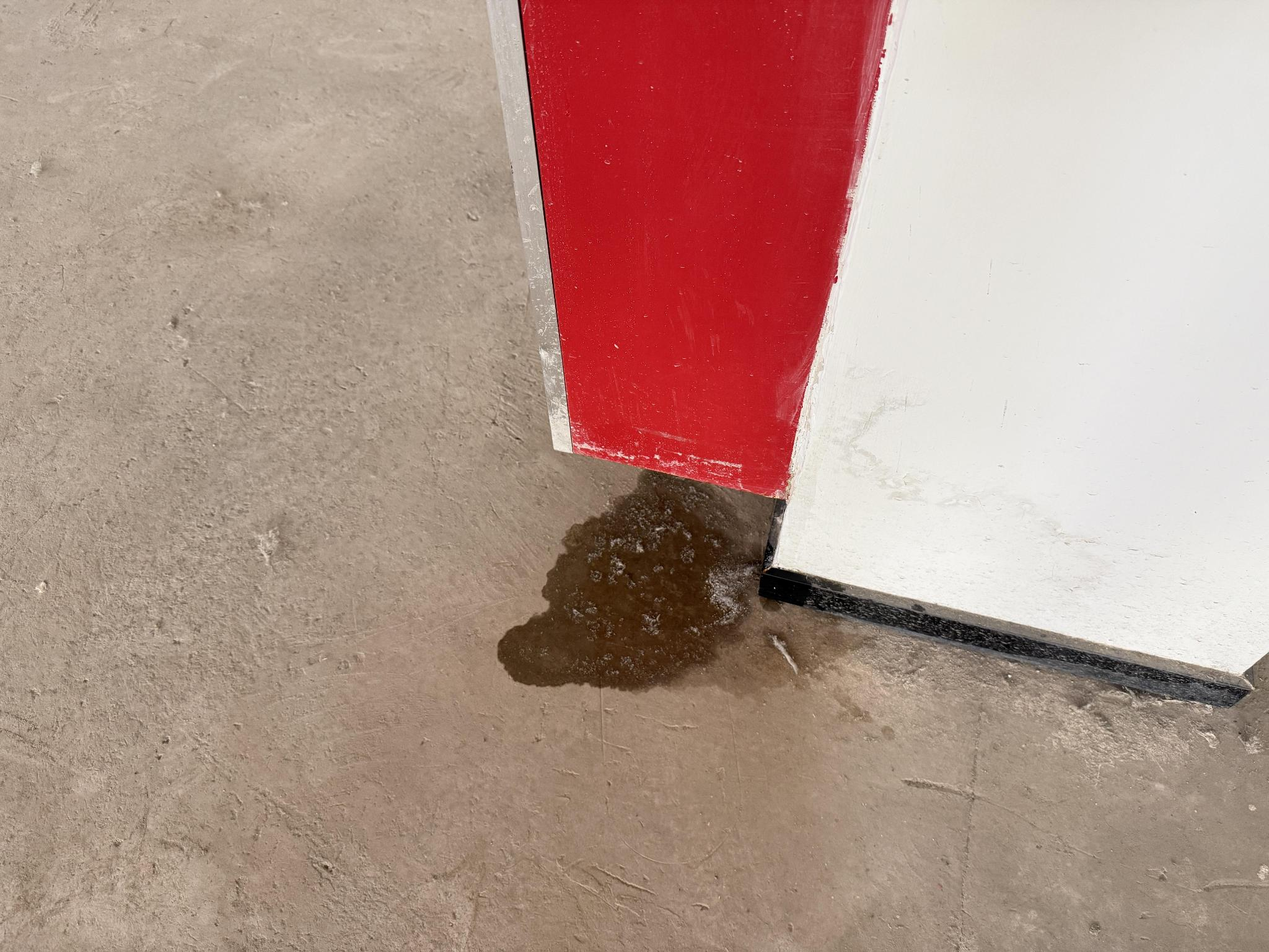water accumulation: (498, 472, 754, 688)
